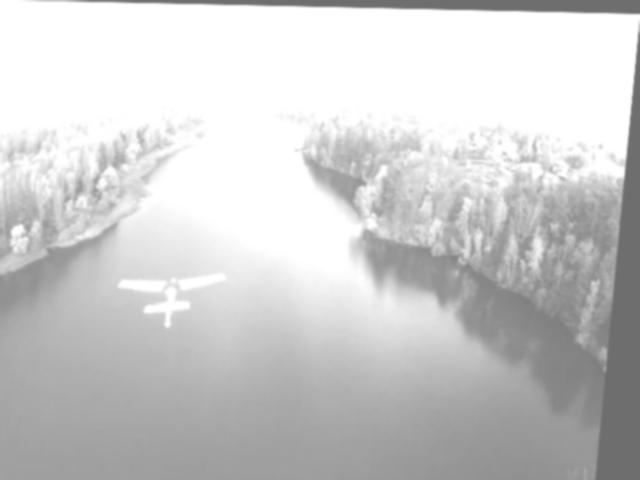hedef: (110, 262, 240, 338)
